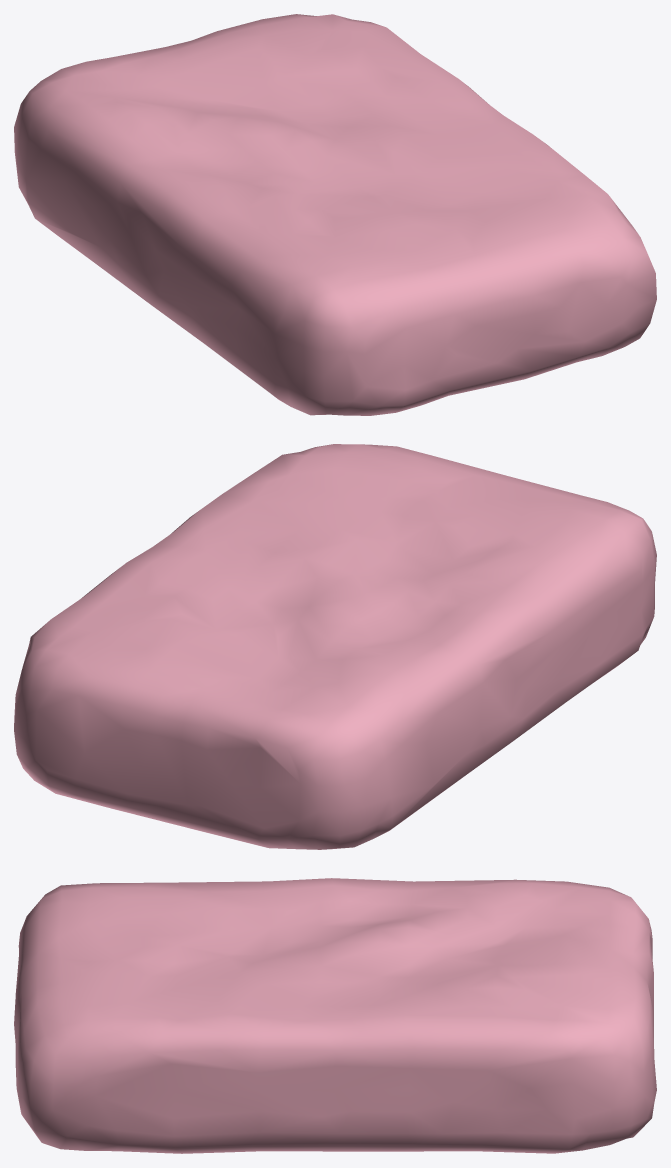
File: Cocaine.fbx
The picture shows the model from 3 angles, top to bottom: view 1: azimuth 30°, elevation 25°; view 2: azimuth 150°, elevation 25°; view 3: azimuth 270°, elevation 25°; orthographic projection. The views are drawn at different scales.
Visible parts, largest first — view 1: Cocaine; view 2: Cocaine; view 3: Cocaine.
Boxes of the visible parts, box(x1,y1,x2,y2) form: Cocaine: box(14, 14, 656, 415); Cocaine: box(14, 444, 656, 849); Cocaine: box(14, 878, 656, 1153).
Size of the model in its own units: 16.09 by 5.98 by 25.2.
